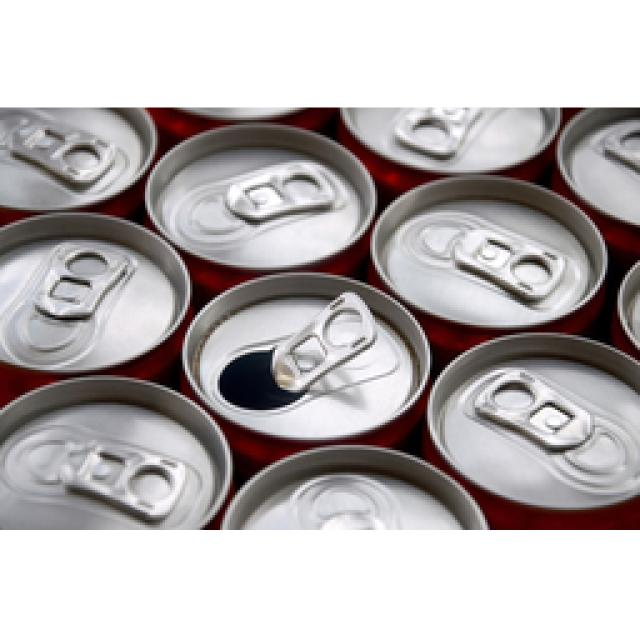aluminum_soda_cans: (426, 326, 640, 508), (186, 270, 416, 438), (3, 370, 222, 520), (150, 122, 373, 263), (377, 185, 593, 327), (5, 208, 183, 355)
